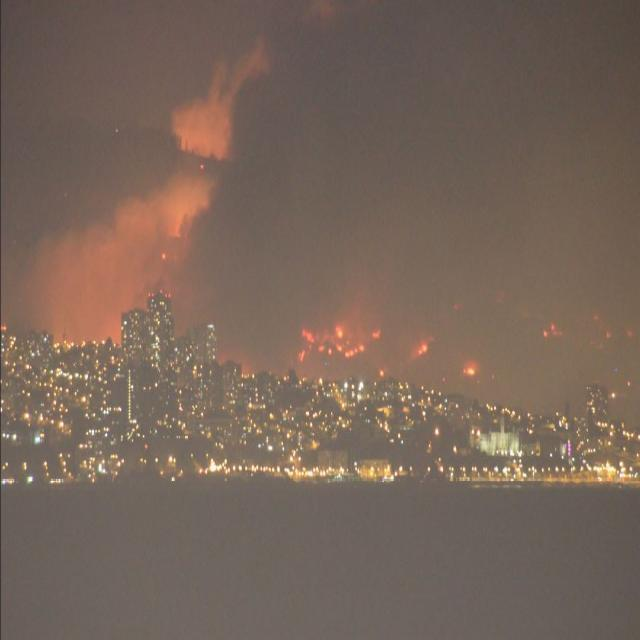Fire: (294, 308, 391, 360), (458, 358, 481, 378), (413, 332, 430, 358), (544, 323, 561, 344)
